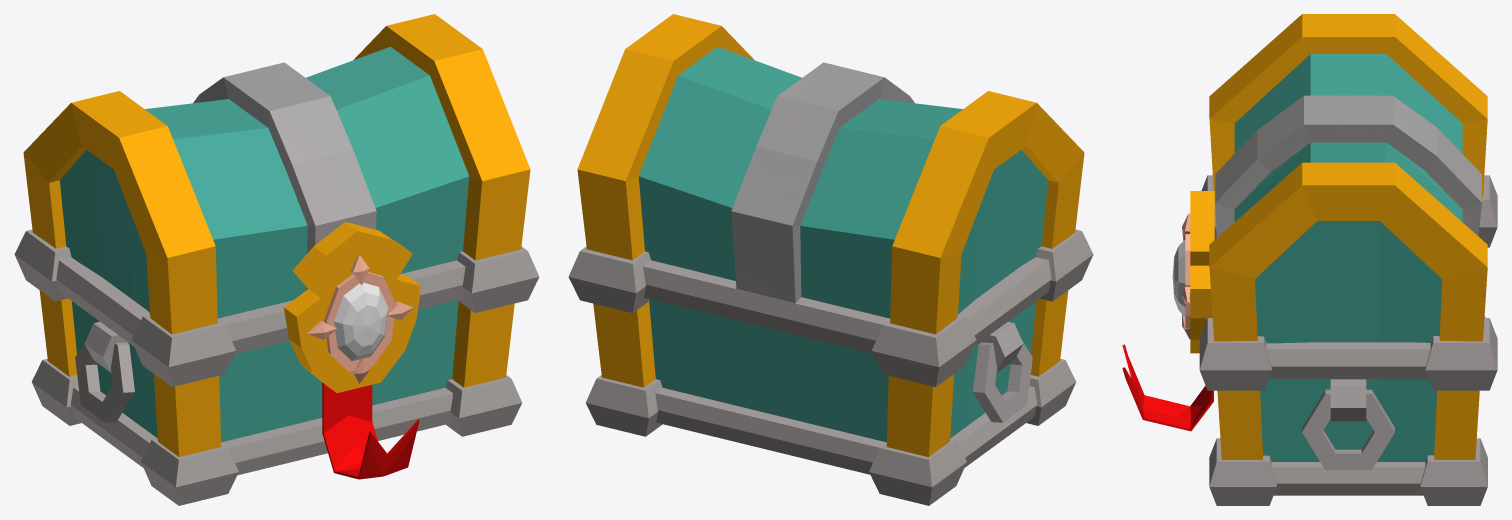
File: Bau.fbx
3 renders of one model, left to right at view 1: azimuth 30°, elevation 25°; view 2: azimuth 150°, elevation 25°; view 3: azimuth 270°, elevation 25°, orthographic. The views are drawn at different scales.
Parts seen in each view (by area): view 1: Bau; view 2: Bau; view 3: Bau.
Boxes of the visible parts, x1=… form: Bau: x1=14, y1=14, x2=539, y2=505; Bau: x1=568, y1=14, x2=1093, y2=505; Bau: x1=1122, y1=14, x2=1497, y2=505.
Bounding box in the file's own units: 149 × 130 × 135.
Materials: 3 (2 with a texture image).
